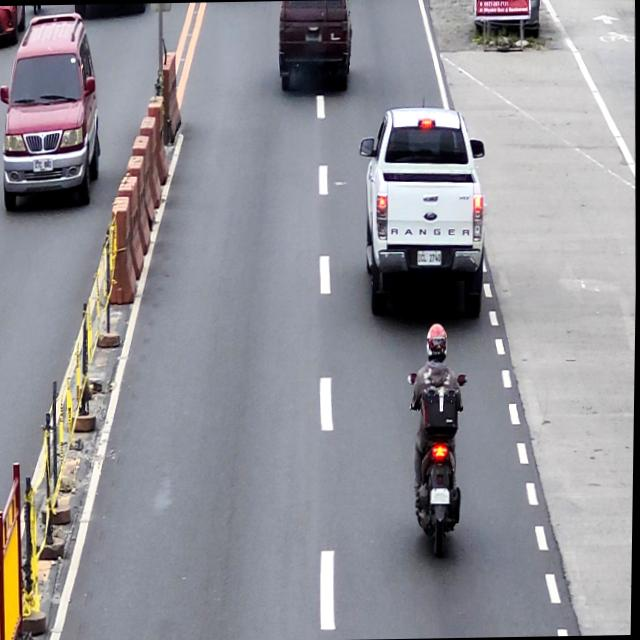Car: (355, 102, 489, 322), (275, 0, 353, 92)
License-Plate: (417, 250, 443, 266), (430, 487, 451, 505)
Motorcycle: (408, 367, 472, 557)
